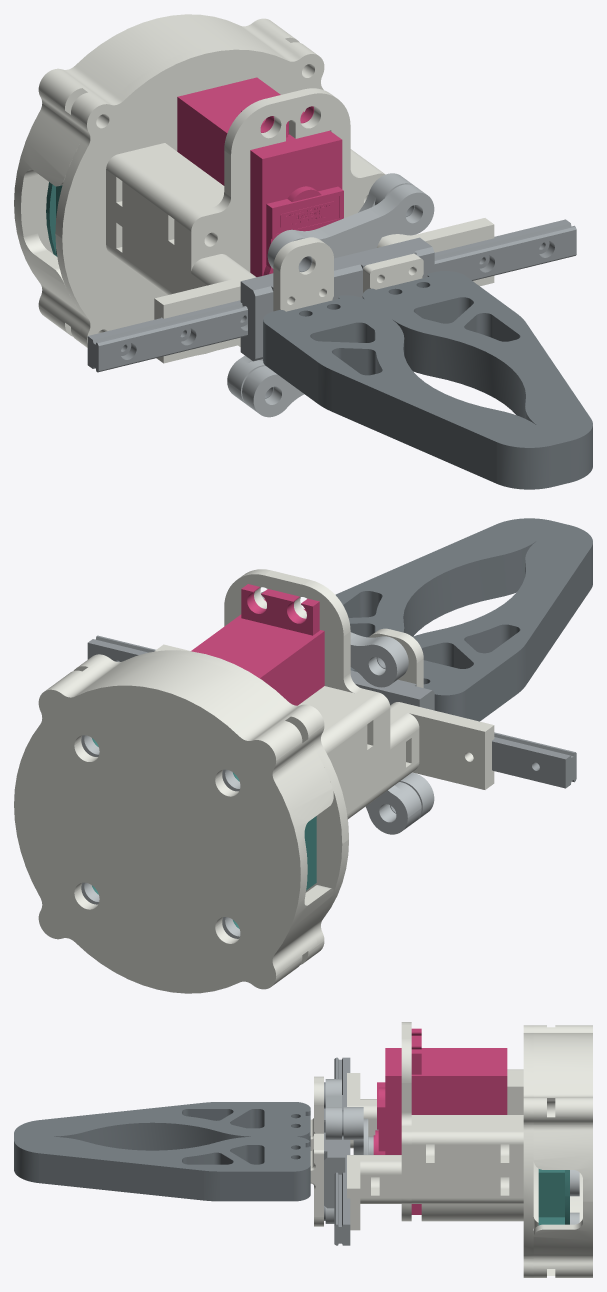
File: gripper.glb
The picture shows the model from 3 angles, top to bottom: view 1: azimuth 30°, elevation 25°; view 2: azimuth 150°, elevation 25°; view 3: azimuth 270°, elevation 25°; orthographic projection. The views are drawn at different scales.
Visible parts, largest first — view 1: part_08_Claw, part_20_PCB_Lid, part_09_Claw, part_21_PCB_Cover, part_15_MG996RBody, part_27_PCB_Linkage, part_17_Servo_flange, part_01_Slide_rail, part_03_Side_Linkage, part_19_Rail_Linkage, part_04_Flange, part_02_Slider (+6 smaller); view 2: part_21_PCB_Cover, part_08_Claw, part_09_Claw, part_15_MG996RBody, part_19_Rail_Linkage, part_27_PCB_Linkage, part_17_Servo_flange, part_20_PCB_Lid, part_01_Slide_rail, part_03_Side_Linkage, part_00_Middle_Linkage, part_02_Slider (+3 smaller); view 3: part_09_Claw, part_21_PCB_Cover, part_27_PCB_Linkage, part_08_Claw, part_15_MG996RBody, part_18_Rail_Linkage, part_20_PCB_Lid, part_17_Servo_flange, part_22_Gripper_PCB, part_01_Slide_rail, part_05_Slider, part_06_Flange (+4 smaller).
Part boxes in pixels (bbox=[...]): part_08_Claw: bbox=[263, 295, 561, 489]; part_20_PCB_Lid: bbox=[55, 44, 324, 355]; part_09_Claw: bbox=[362, 271, 592, 484]; part_21_PCB_Cover: bbox=[14, 14, 310, 344]; part_15_MG996RBody: bbox=[177, 77, 343, 276]; part_27_PCB_Linkage: bbox=[106, 143, 378, 294]; part_17_Servo_flange: bbox=[184, 88, 385, 346]; part_01_Slide_rail: bbox=[87, 219, 576, 372]; part_03_Side_Linkage: bbox=[267, 184, 434, 268]; part_19_Rail_Linkage: bbox=[154, 254, 256, 363]; part_04_Flange: bbox=[273, 237, 333, 311]; part_02_Slider: bbox=[240, 262, 344, 361]; part_21_PCB_Cover: bbox=[14, 655, 333, 993]; part_08_Claw: bbox=[412, 523, 592, 721]; part_09_Claw: bbox=[335, 518, 560, 671]; part_15_MG996RBody: bbox=[191, 584, 324, 705]; part_19_Rail_Linkage: bbox=[388, 702, 494, 789]; part_27_PCB_Linkage: bbox=[298, 686, 383, 819]; part_17_Servo_flange: bbox=[224, 569, 390, 794]; part_20_PCB_Lid: bbox=[87, 650, 348, 955]; part_01_Slide_rail: bbox=[87, 635, 576, 788]; part_03_Side_Linkage: bbox=[261, 591, 408, 687]; part_00_Middle_Linkage: bbox=[365, 782, 421, 834]; part_02_Slider: bbox=[350, 670, 434, 710]; part_09_Claw: bbox=[14, 1136, 310, 1201]; part_21_PCB_Cover: bbox=[533, 1025, 592, 1277]; part_27_PCB_Linkage: bbox=[411, 1069, 523, 1221]; part_08_Claw: bbox=[14, 1102, 310, 1150]; part_15_MG996RBody: bbox=[373, 1028, 507, 1214]; part_18_Rail_Linkage: bbox=[347, 1155, 401, 1230]; part_20_PCB_Lid: bbox=[523, 1025, 533, 1277]; part_17_Servo_flange: bbox=[401, 1022, 411, 1221]; part_22_Gripper_PCB: bbox=[538, 1169, 569, 1225]; part_01_Slide_rail: bbox=[334, 1057, 350, 1245]; part_05_Slider: bbox=[324, 1128, 345, 1208]; part_06_Flange: bbox=[310, 1133, 323, 1226].
Bounding box in the file's own units: 0.12 × 0.076 × 0.1756.
